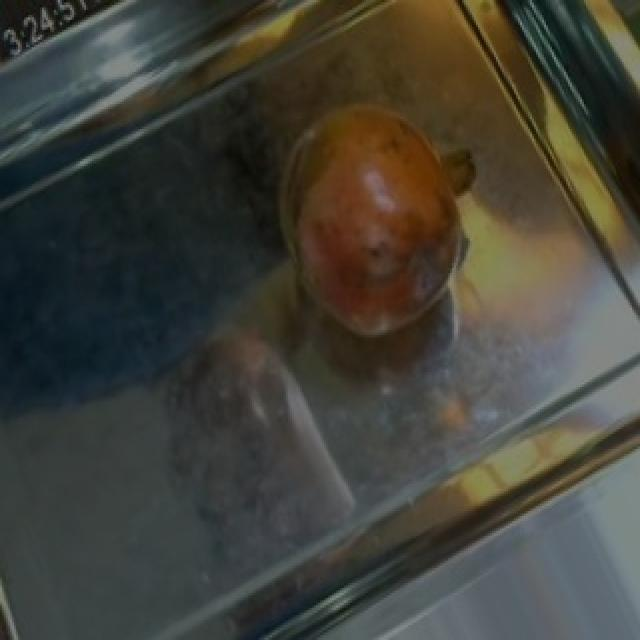fruit: (252, 75, 498, 362)
